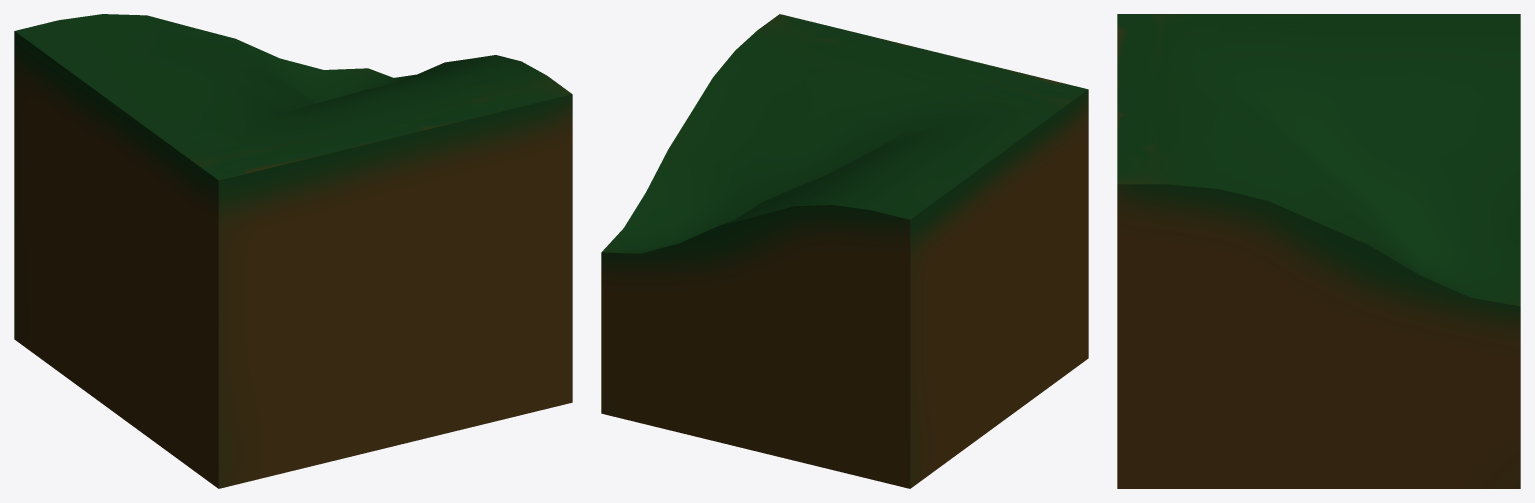
File: hillInner.fbx
The picture shows the model from 3 angles, left to right: view 1: azimuth 30°, elevation 25°; view 2: azimuth 150°, elevation 25°; view 3: azimuth 270°, elevation 25°; orthographic projection. The views are drawn at different scales.
Visible parts, largest first — view 1: Box001; view 2: Box001; view 3: Box001.
Part boxes in pixels (x1,y1,x2,y2): Box001: (14,14,572,488); Box001: (601,14,1088,488); Box001: (1117,14,1520,488).
Bounding box in the file's own units: 60 × 49.99 × 60.
Materials: 1 (1 with a texture image).
